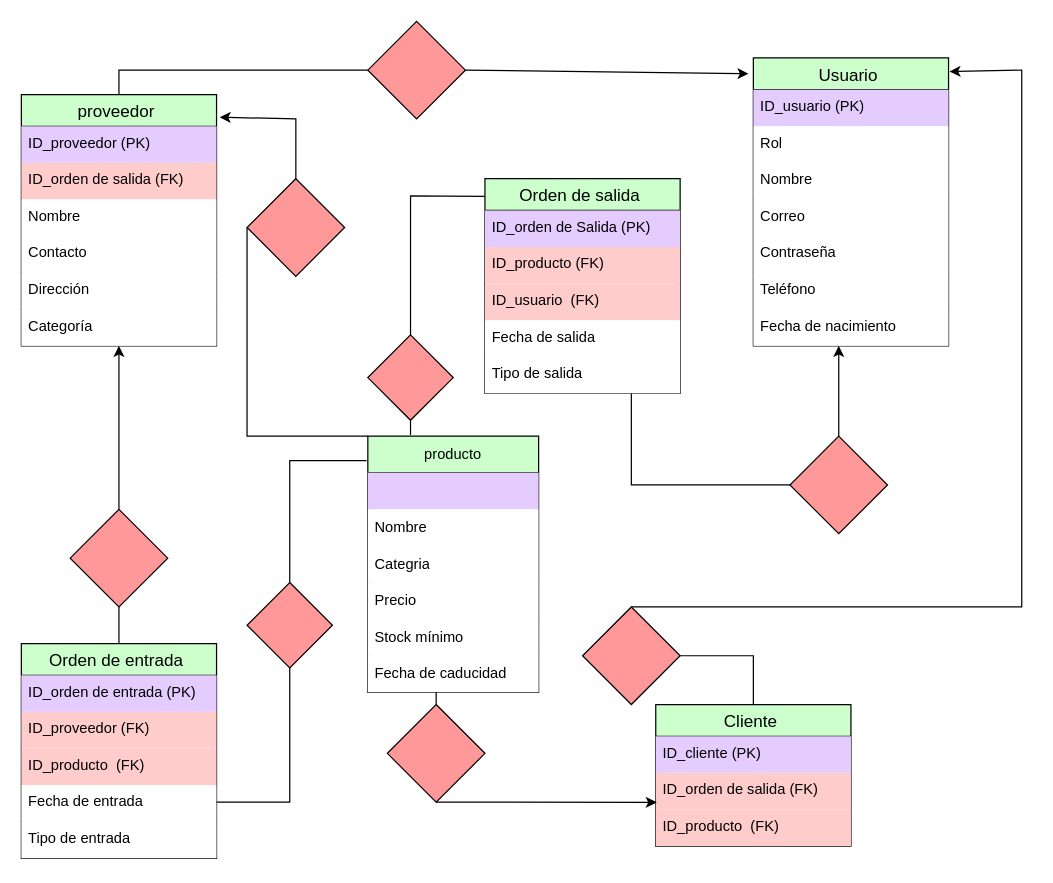
Image size: 1053x883. Some labels were removed from this diagram. Each missing label, with the centre of its shape:
"Adquiere" goes at pixel 435 752.
"Almacena" goes at pixel 289 624.
"Autoriza" goes at pixel 838 484.
"Expiden" goes at pixel 410 377.
"genera" goes at pixel 118 557.
"Gestión compra" goes at pixel 416 69.
"Gestión venta" goes at pixel 630 655.
"ID_producto (PK)" goes at pixel 452 490.
"suministra" goes at pixel 295 227.
